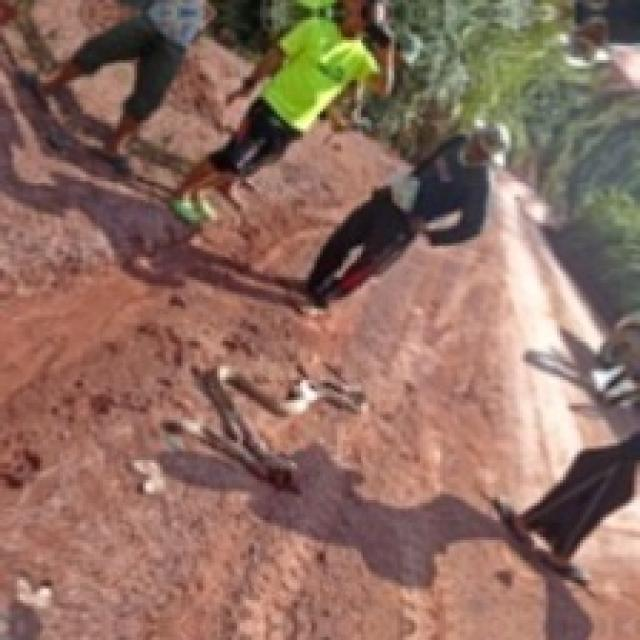king cobra: (165, 362, 366, 491)
